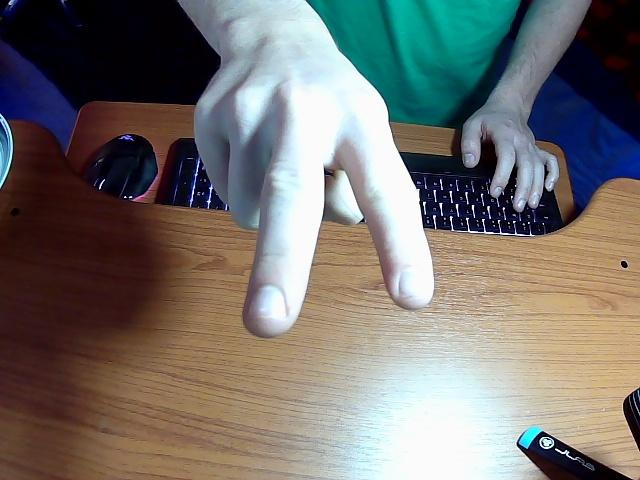scissors: (180, 0, 588, 337)
